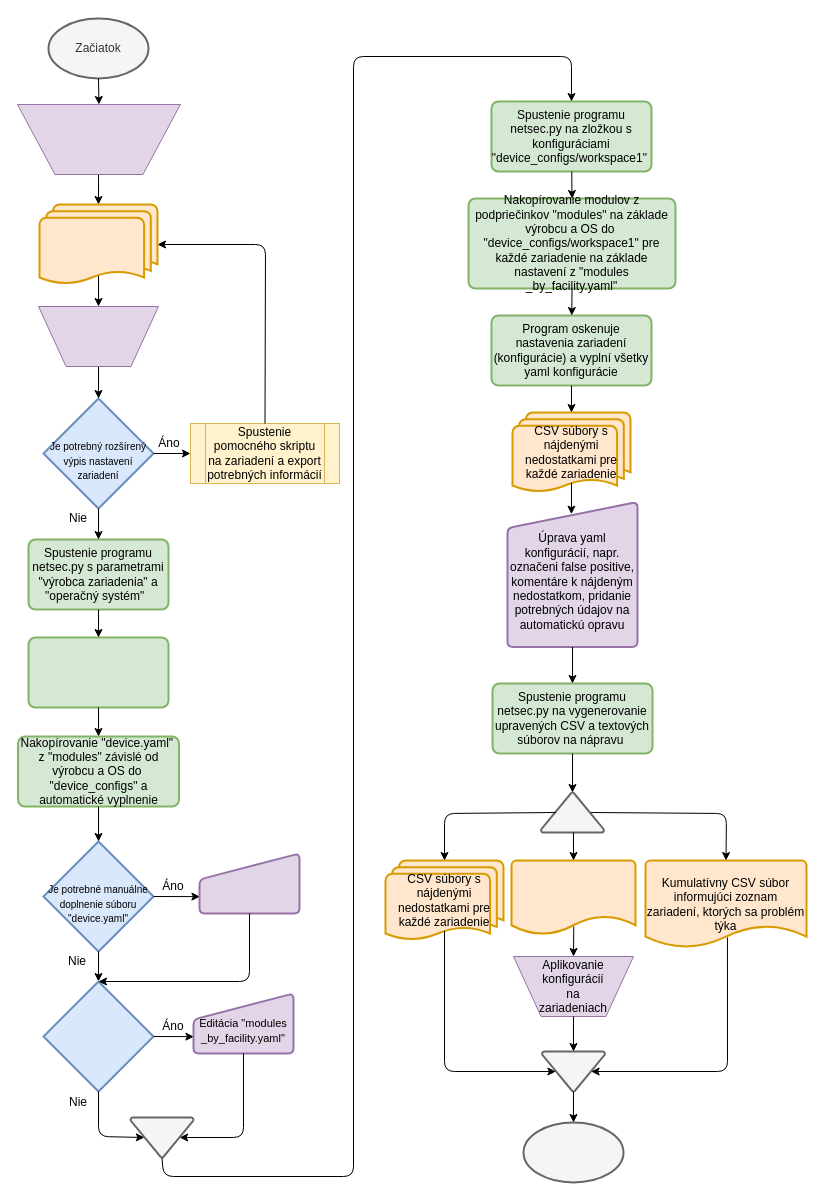
Image size: 825x1202. Some labels were removed from this diagram. The shapes that lost their labels are listed below. From the top down, each one's centre as x and y in pixels, then its label:
[98,139]: Príprava konfigurácií zariadení, exportovanie zo zariadení v textovej forme
[98,244]: Výpisy nastavení zariadení (konfigurácia)
[98,336]: Uloženie do priečinku "init_configs"
[98,672]: Nakopírovanie vyexportovaných konnfigurácií z "init_configs" do "device_configs"
[249,883]: Vyplnenie potrebných polí v device.yaml
[573,897]: Textové súbory zjednávajúce nápravu
[98,1036]: Je potrebné zmeniť spúšťané moduly pre jednotlivé vrstvy
[573,1152]: Koniec
